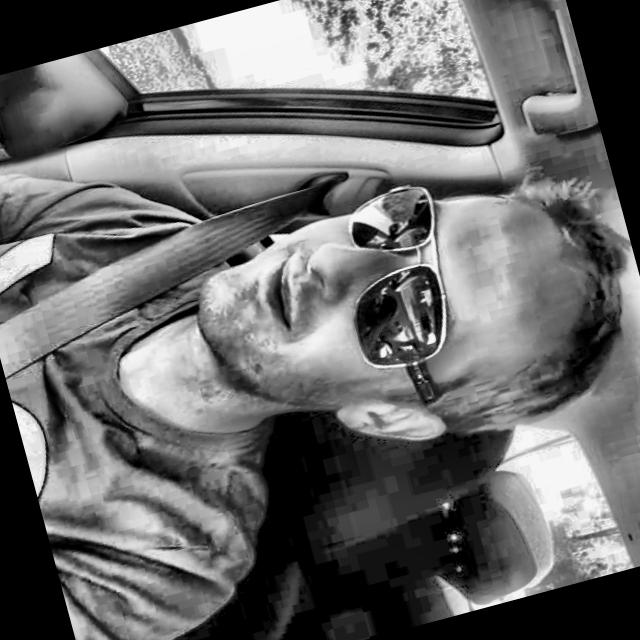closed_mouth: (233, 238, 308, 367)
